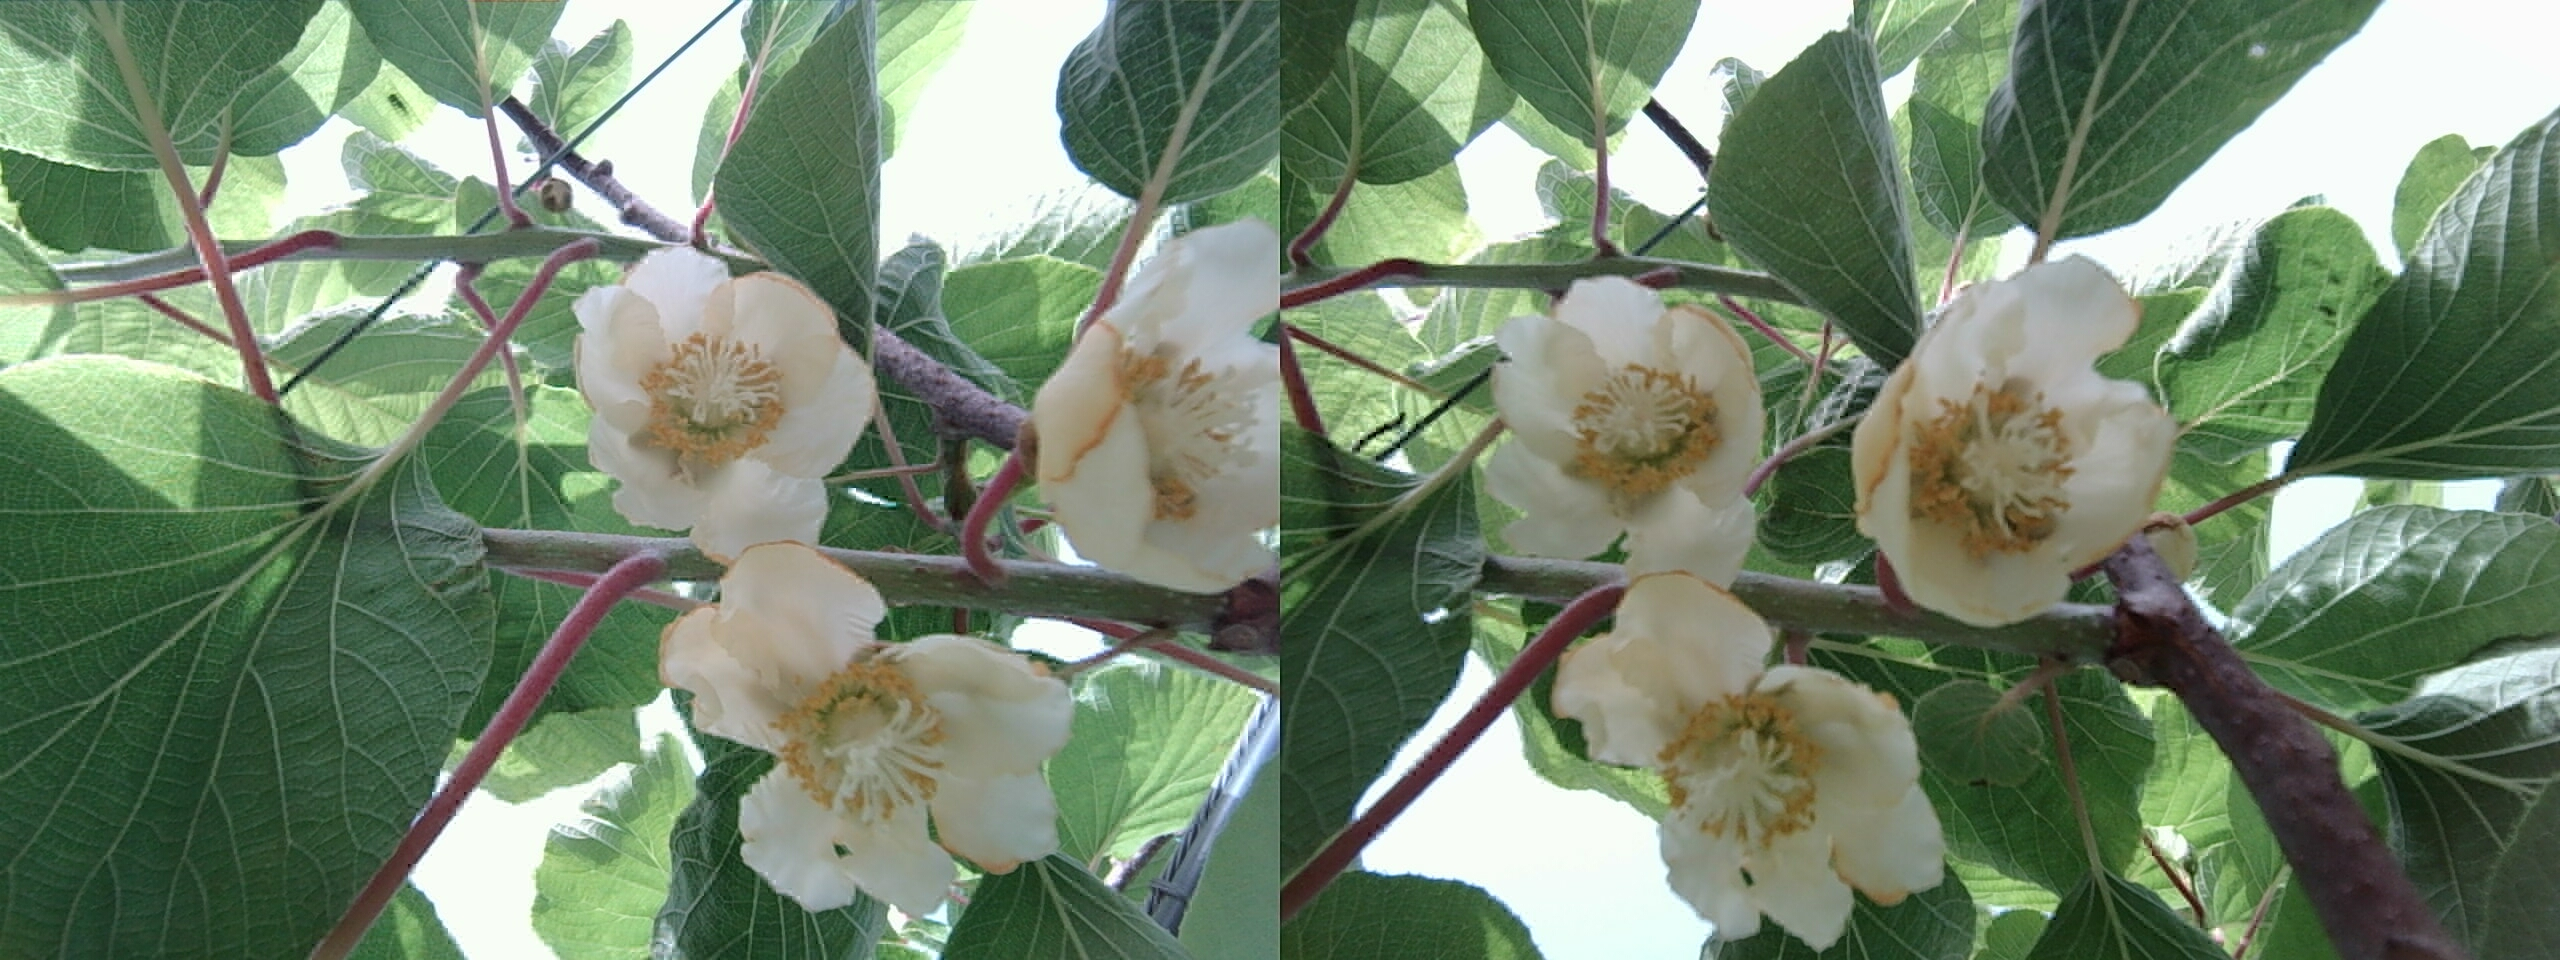flower: (696, 614, 1050, 908), (1853, 276, 2157, 617), (1597, 638, 1923, 934), (1032, 237, 1269, 583), (573, 255, 849, 521), (1497, 273, 1753, 550), (678, 553, 877, 753)
